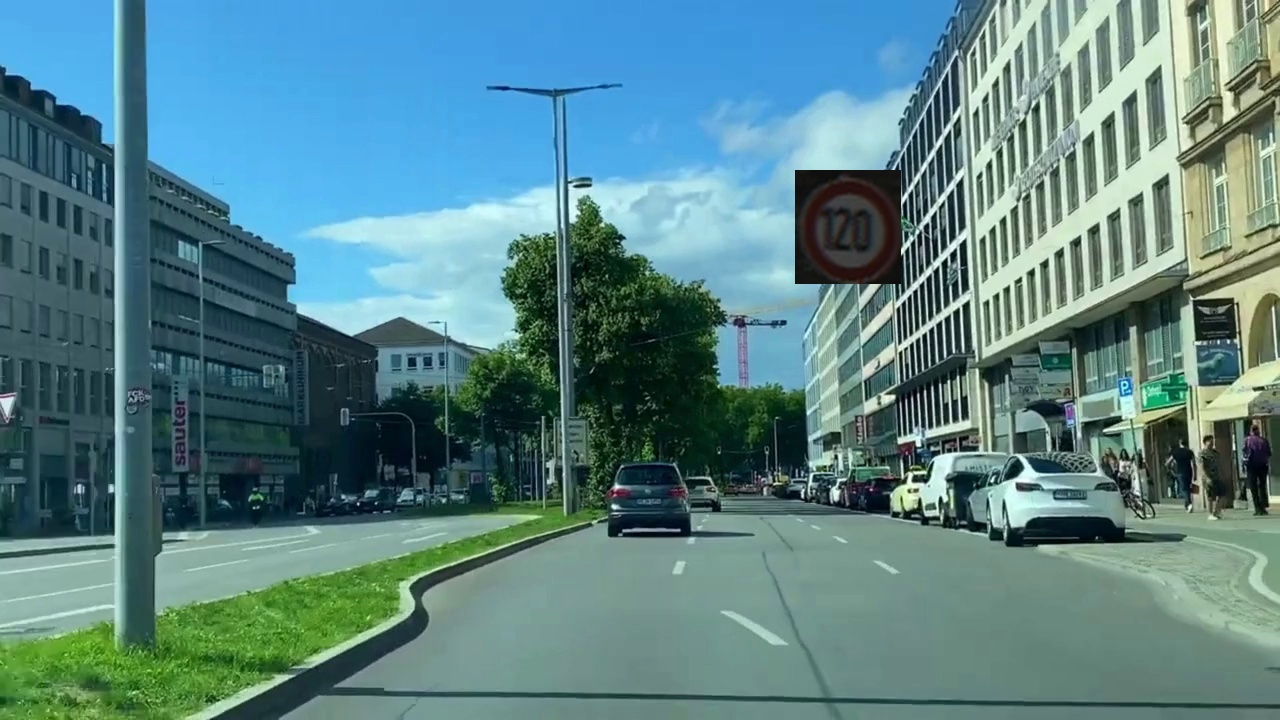Speed 120: (795, 170, 901, 284)
